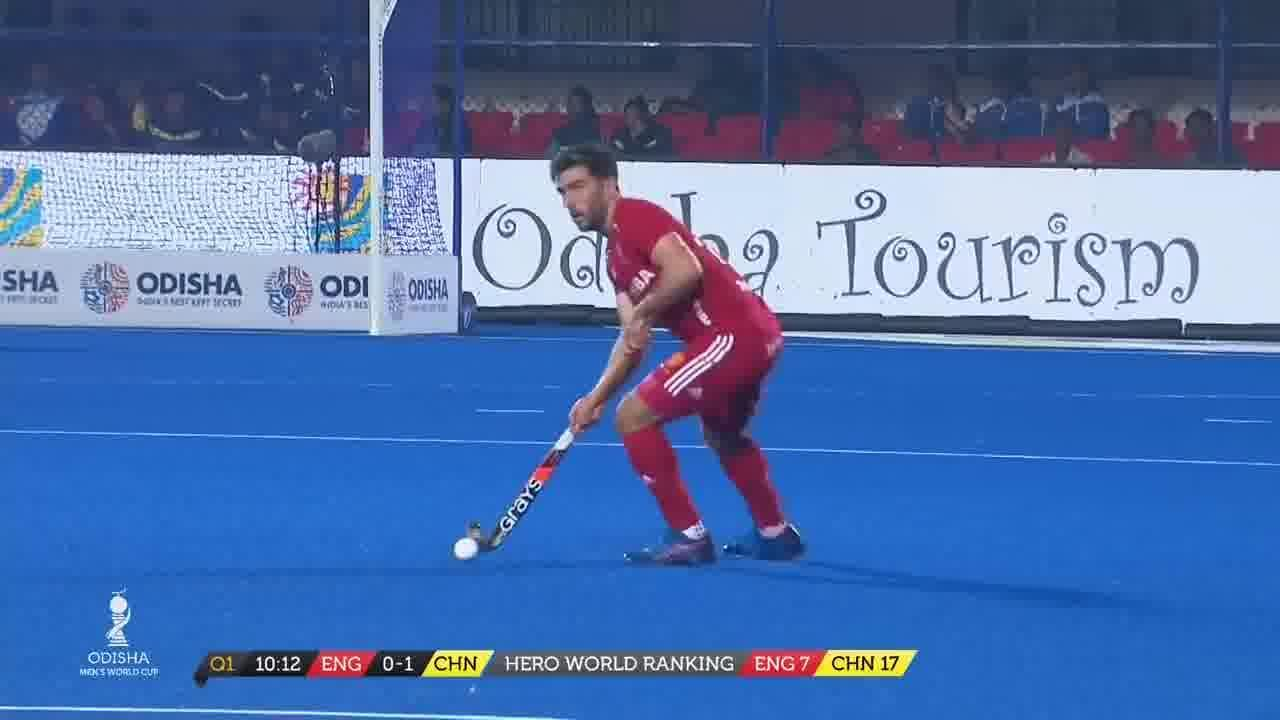ball: (454, 532, 478, 560)
